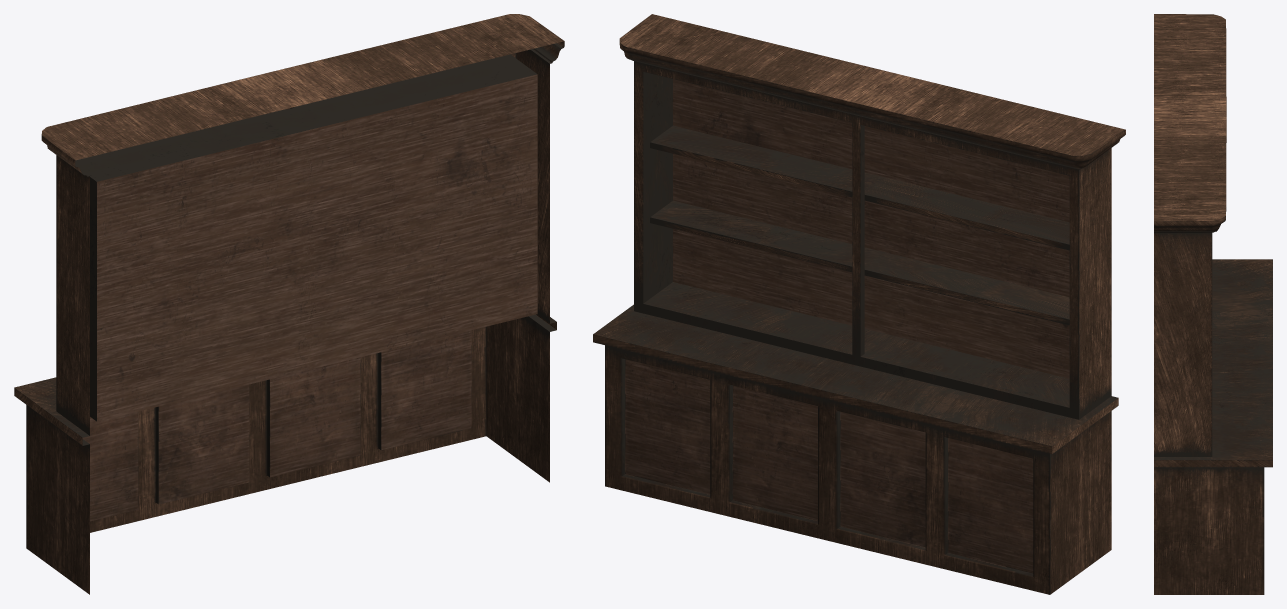
Rendered from Bookshelf.fbx.
3 views of the same model, side by side, from view 1: azimuth 30°, elevation 25°; view 2: azimuth 150°, elevation 25°; view 3: azimuth 270°, elevation 25° (orthographic). The views are drawn at different scales.
Visible parts, largest first — view 1: Bookshelf; view 2: Bookshelf; view 3: Bookshelf.
Part boxes in pixels (left/top/right/bottom): Bookshelf: left=14, top=14, right=564, bottom=594; Bookshelf: left=593, top=14, right=1125, bottom=594; Bookshelf: left=1154, top=14, right=1272, bottom=594.
Bounding box in the file's own units: 1541 × 1317 × 374.
1 material, 1 textured.
